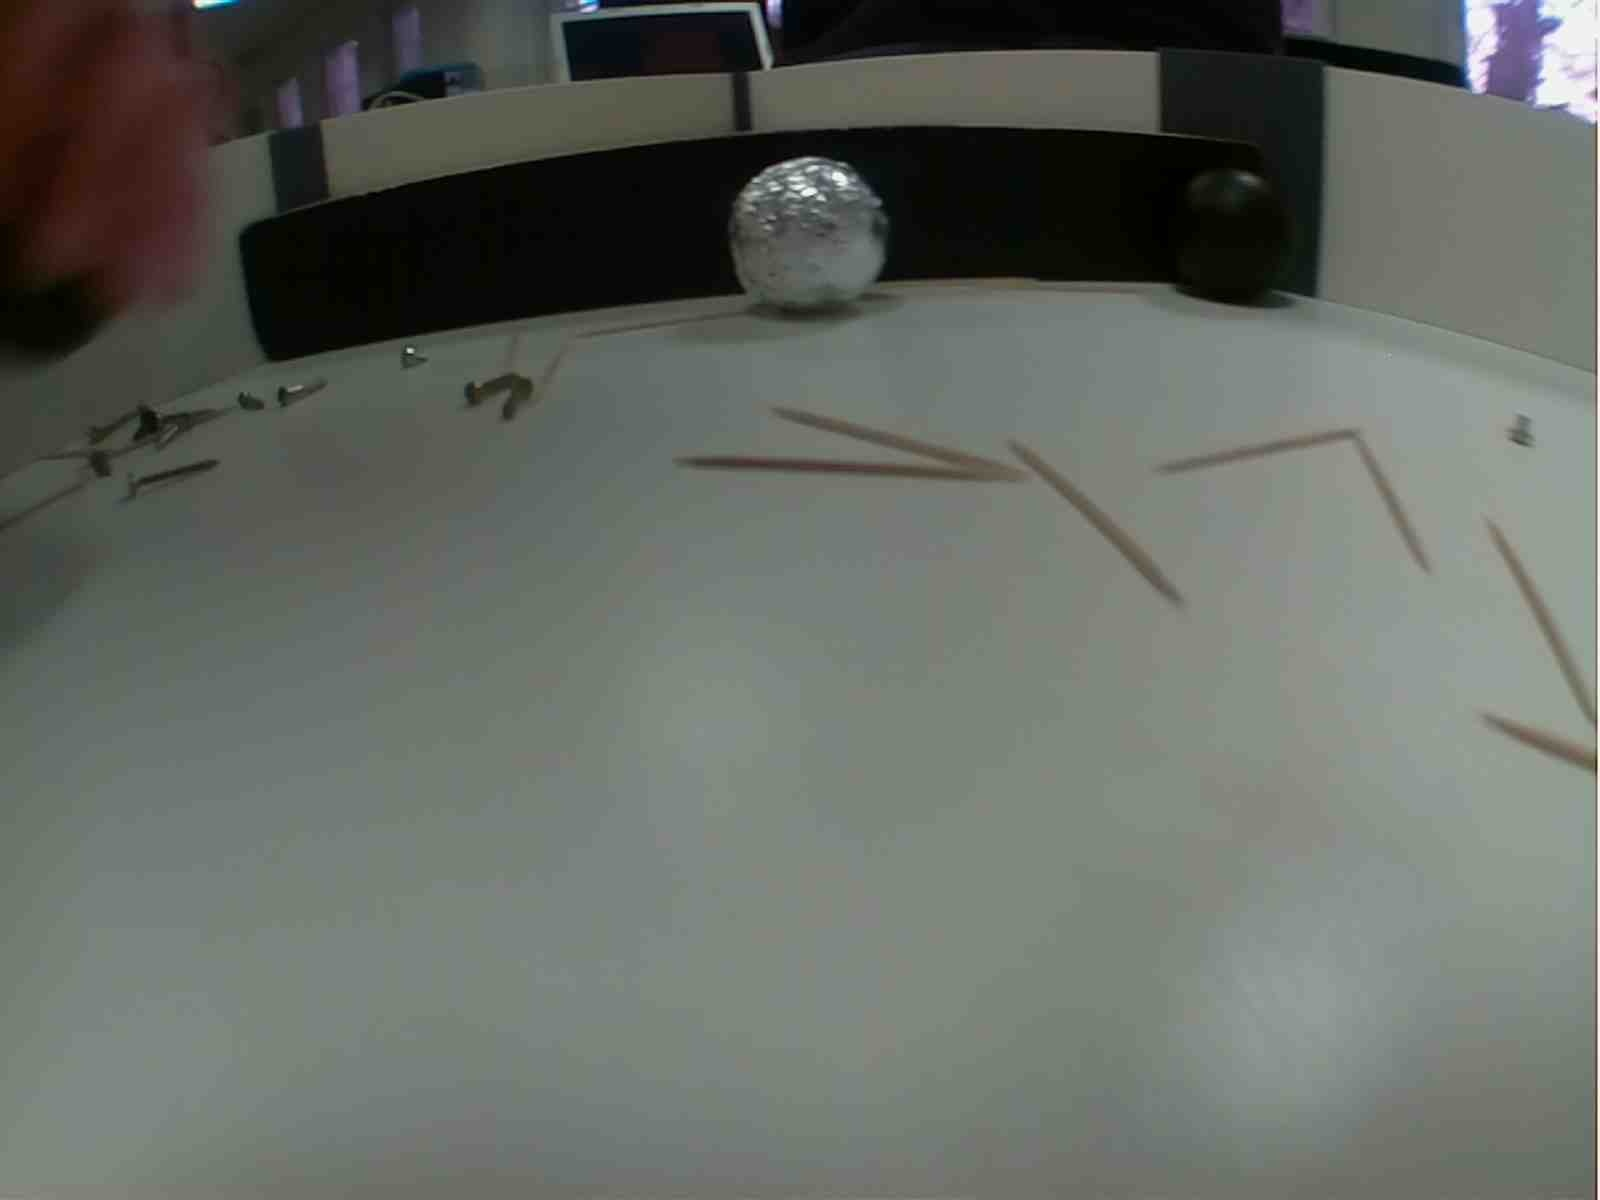bianca: (729, 153, 892, 320)
